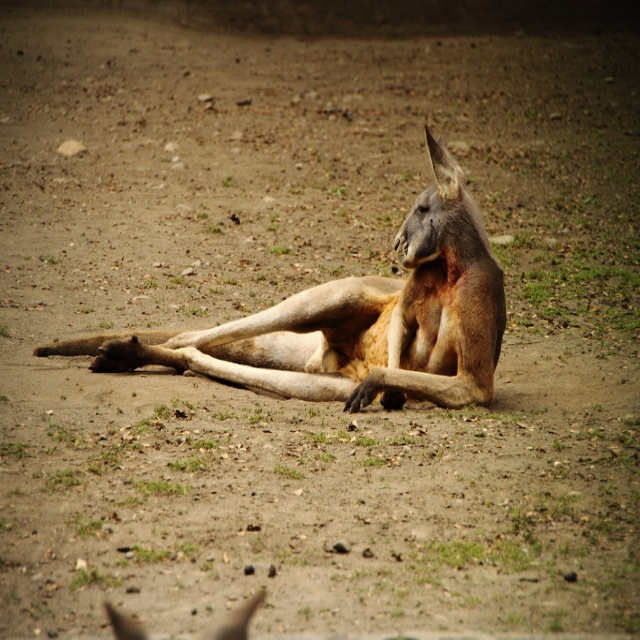Kangaroo: (34, 119, 511, 410), (104, 582, 261, 639)
